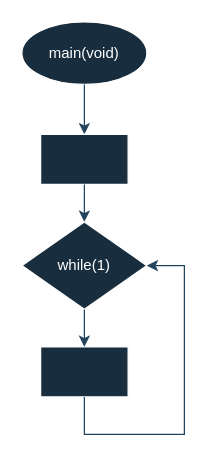
Image size: 216x466. Some labels were removed from this diagram. Here are the shapes that lost their labels. From the top down, the box of each, then its label:
(39, 133, 128, 184): Inic()
(39, 346, 128, 397): Pisca()
